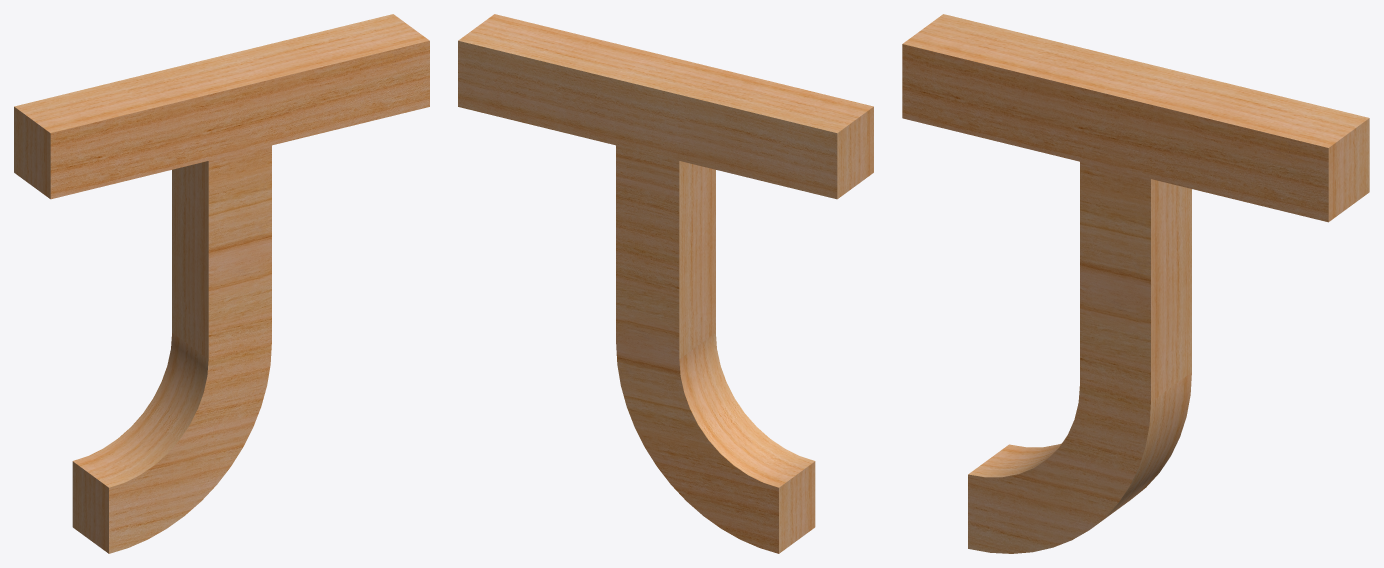
File: JACKC.GLB
3 views of the same model, side by side, from view 1: azimuth 30°, elevation 25°; view 2: azimuth 150°, elevation 25°; view 3: azimuth 330°, elevation 25° (orthographic). The views are drawn at different scales.
Parts seen in each view (by area): view 1: JACK.SLDPRT; view 2: JACK.SLDPRT; view 3: JACK.SLDPRT.
Boxes of the visible parts, x1,y1,x2,y2 form: JACK.SLDPRT: (14, 14, 429, 553); JACK.SLDPRT: (458, 14, 873, 553); JACK.SLDPRT: (902, 14, 1369, 553).
Size of the model in its own units: 0.3048 by 0.334 by 0.0508.
1 material, 1 textured.
